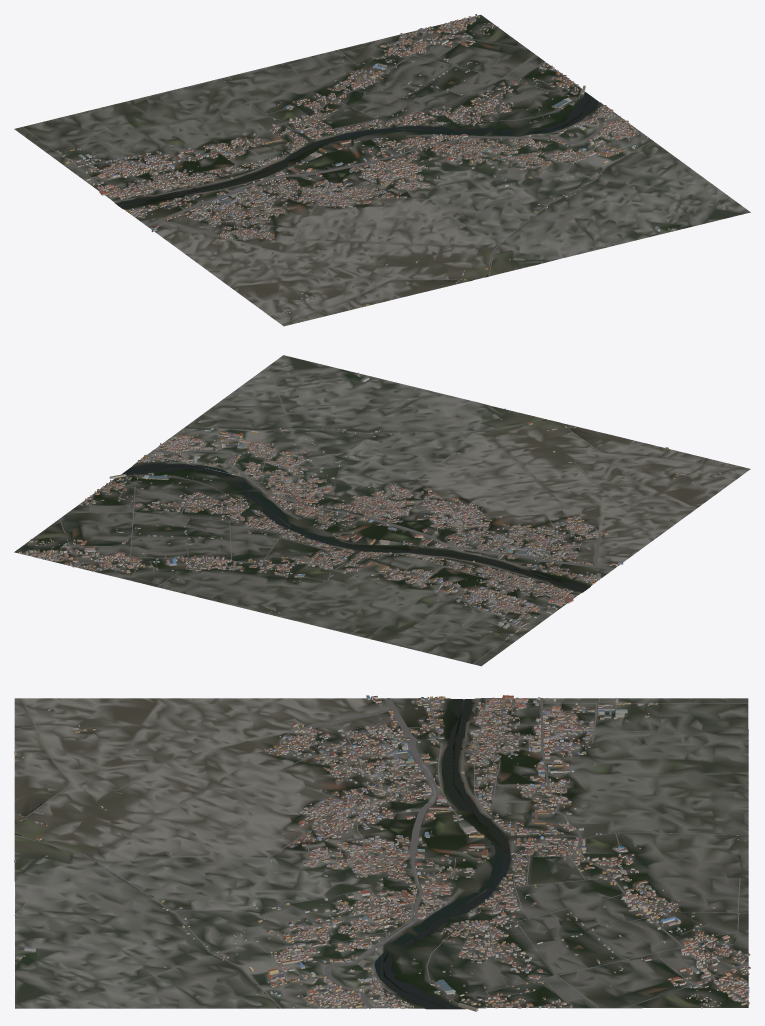
3 views of the same model, one above another, from view 1: azimuth 30°, elevation 25°; view 2: azimuth 150°, elevation 25°; view 3: azimuth 270°, elevation 25° (orthographic). The views are drawn at different scales.
Visible parts, largest first — view 1: ground, buildings, roads, water; view 2: ground, buildings, roads, water; view 3: ground, buildings, roads, water.
Boxes of the visible parts, x1=… form: ground: x1=14, y1=15, x2=750, y2=326; buildings: x1=56, y1=14, x2=675, y2=312; roads: x1=23, y1=16, x2=718, y2=324; water: x1=116, y1=92, x2=653, y2=280; ground: x1=14, y1=355, x2=750, y2=666; buildings: x1=18, y1=372, x2=721, y2=639; roads: x1=20, y1=374, x2=745, y2=664; water: x1=121, y1=419, x2=589, y2=592; ground: x1=14, y1=698, x2=748, y2=1009; buildings: x1=14, y1=695, x2=750, y2=1011; roads: x1=14, y1=698, x2=748, y2=1008; water: x1=14, y1=699, x2=526, y2=1008.
Bounding box in the file's own units: 2843 × 24.12 × 2816.
